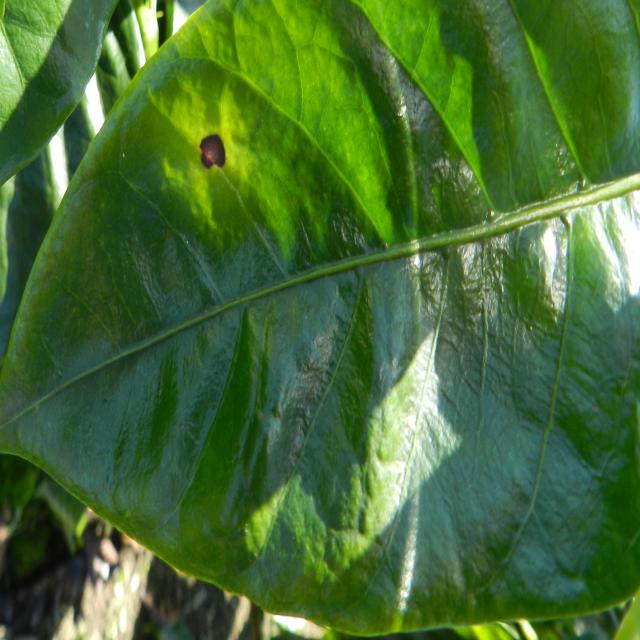Enfermedad-Mancha-de-hierro: (0, 0, 640, 638)
